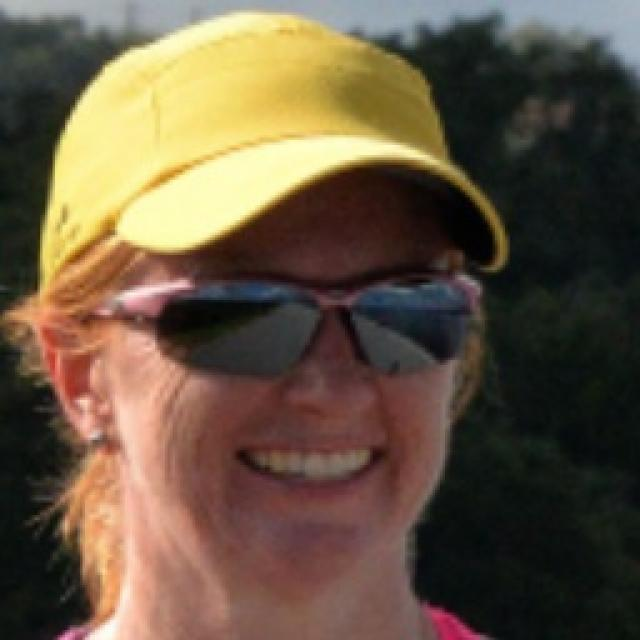glasses: (102, 268, 492, 394)
